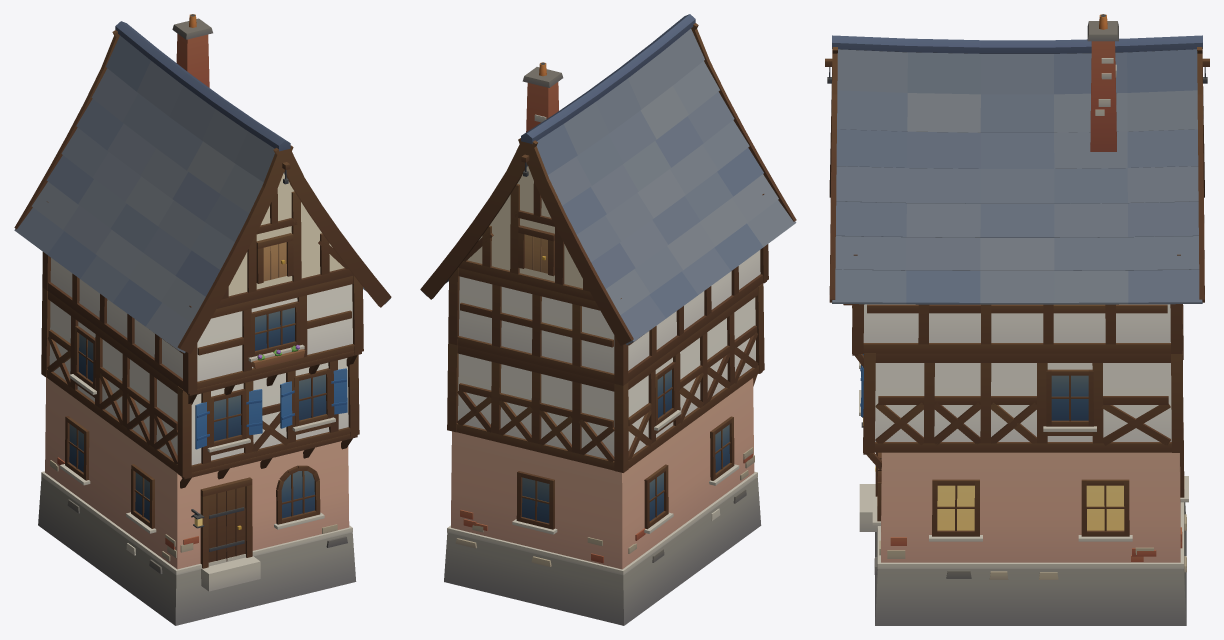
File: house_02_gabled_townhouse.glb
3 views of the same model, side by side, from view 1: azimuth 30°, elevation 25°; view 2: azimuth 150°, elevation 25°; view 3: azimuth 270°, elevation 25° (orthographic). The views are drawn at different scales.
Visible parts, largest first — view 1: house_02_gabled_townhouse; view 2: house_02_gabled_townhouse; view 3: house_02_gabled_townhouse.
Boxes of the visible parts, x1,y1,x2,y2 form: house_02_gabled_townhouse: (14,14,391,625); house_02_gabled_townhouse: (420,14,796,625); house_02_gabled_townhouse: (825,14,1209,625).
Size of the model in its own units: 23.2 by 52.56 by 31.84.
1 material, 1 textured.
